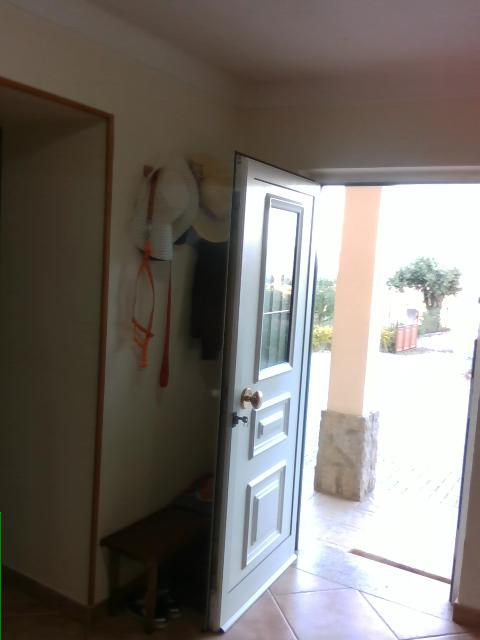open_door: (272, 161, 479, 608)
